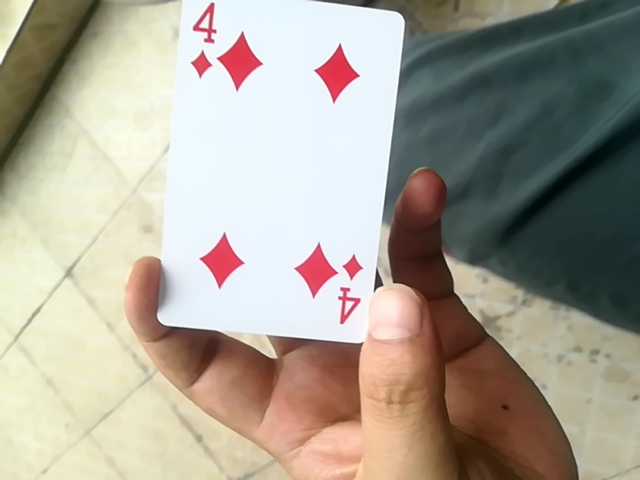fk 4: (153, 4, 403, 356)
